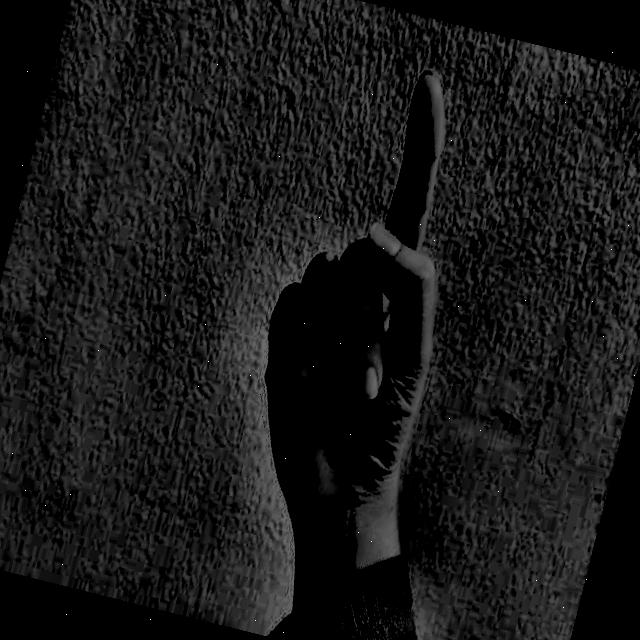U: (207, 33, 519, 550)
